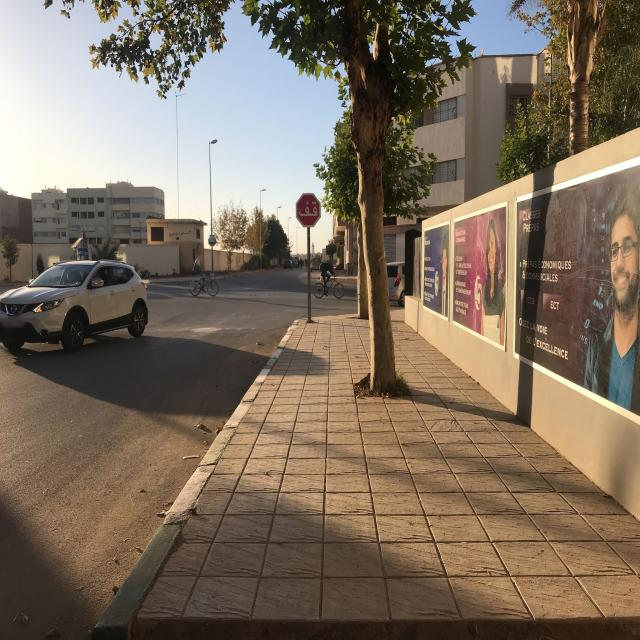bike: (190, 268, 218, 296)
car: (0, 259, 149, 353), (385, 260, 406, 306)
